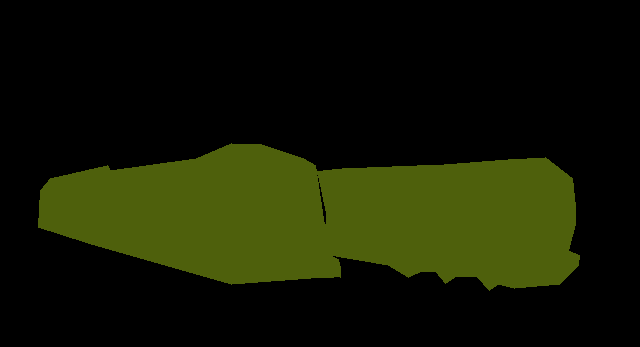Train: (38, 143, 341, 284), (313, 157, 580, 291)
